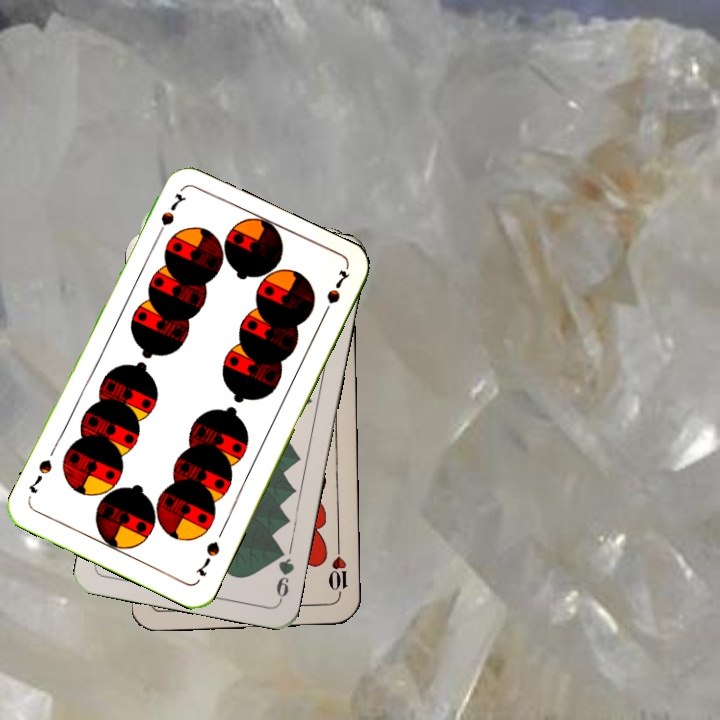G9: (272, 543, 297, 603)
H10: (324, 542, 350, 601)
S7: (151, 189, 189, 243), (191, 537, 223, 579)
